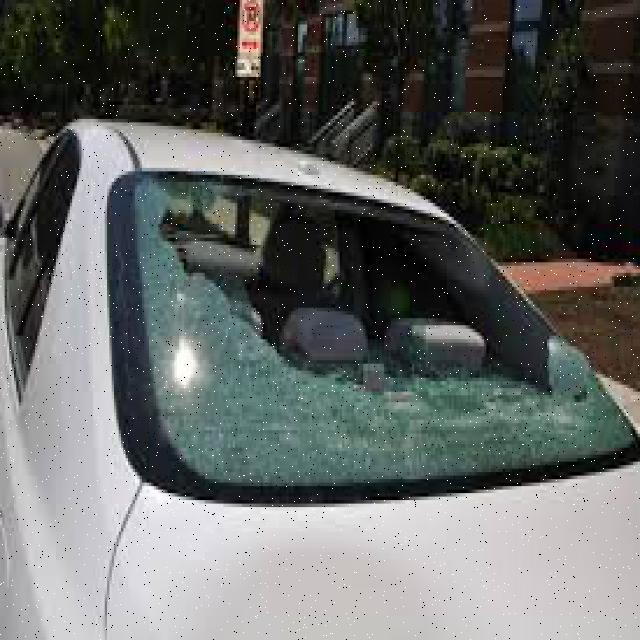Rear-windscreen-Damage: (84, 158, 582, 539)
